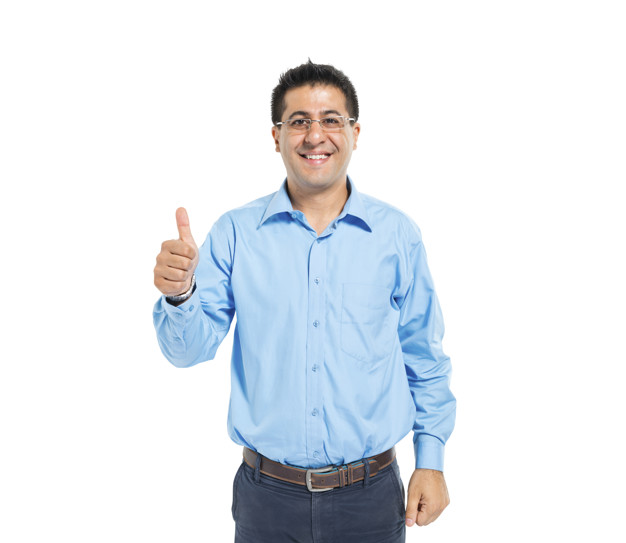thumbsup: (154, 207, 197, 294)
